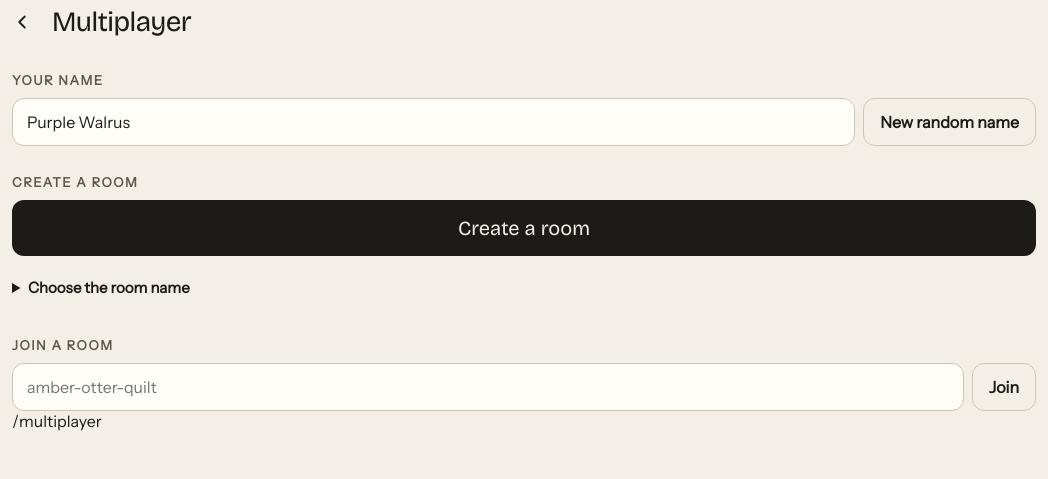
the Multiplayer screen › shows join errors inline
This screenshot has width=1048, height=479.
Type "Amber Otter Quilt" into the field labelled "Join a room" at (488, 387), box [12,363,964,411]
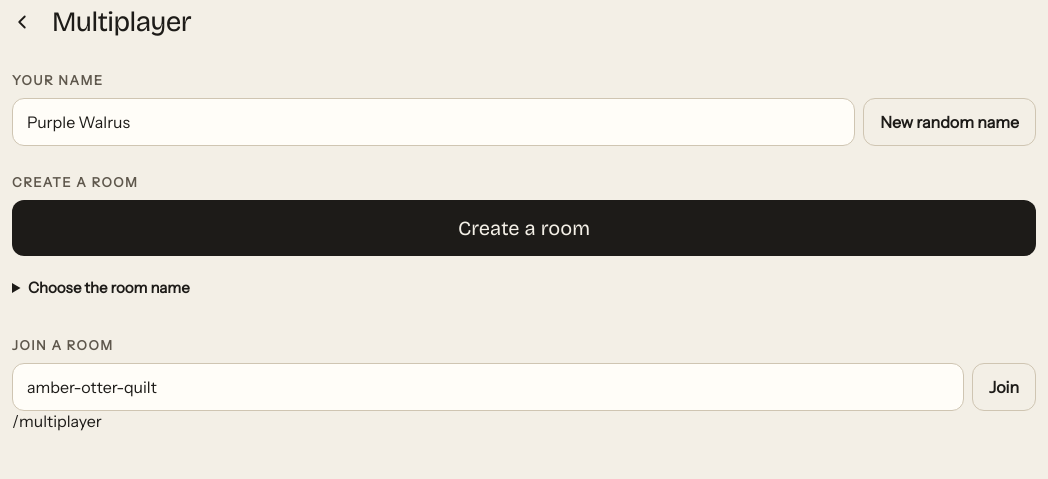
Result: the field labelled "Join a room" holds "amber-otter-quilt" at [12,363,964,411]
Click the button "Join" at (1004, 387), box [972,363,1036,411]
Wait 100 ms
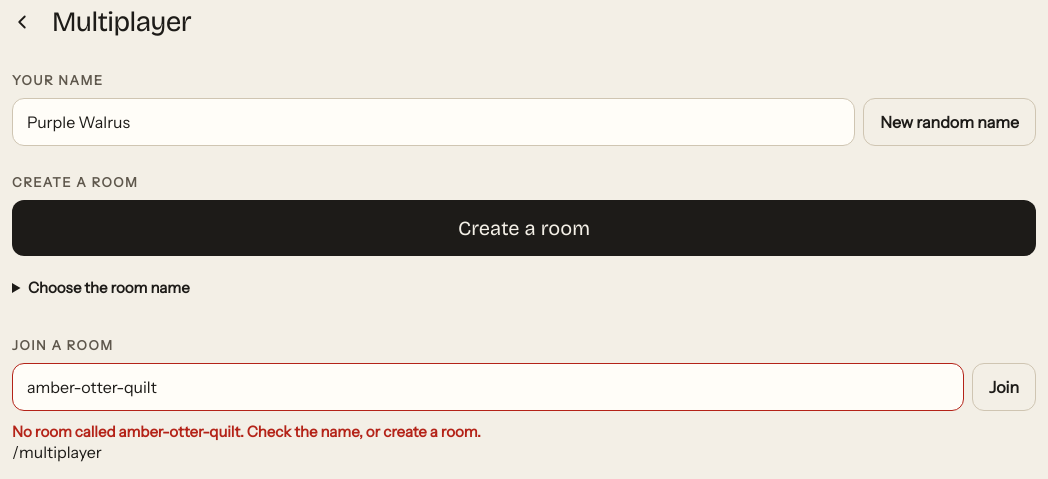
Result: the message reads "No room called amber-otter-quilt. Check the name, or create a room." at [12,422,481,441]
Click the button "Join" at (1004, 387), box [972,363,1036,411]
Wait 100 ms
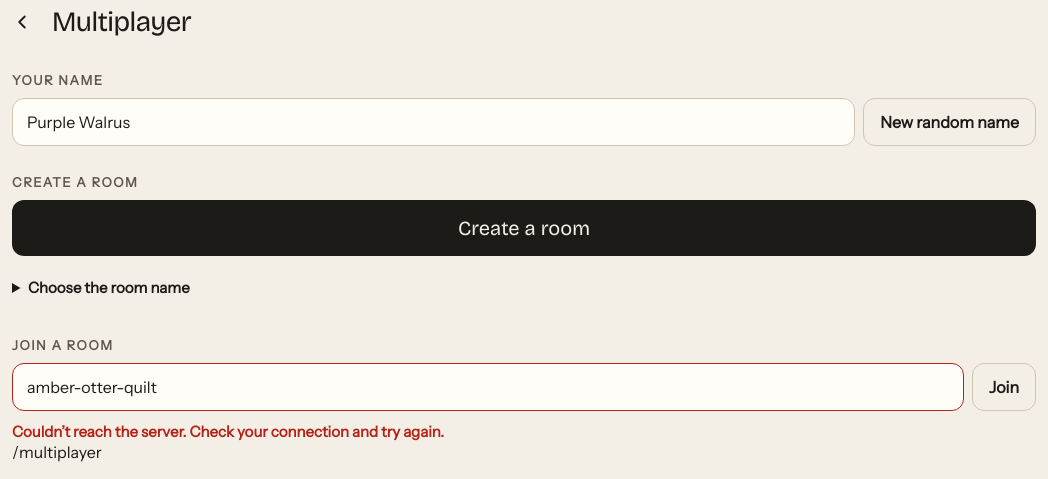
Result: the message reads "Couldn’t reach the server. Check your connection and try again." at [12,422,444,441]
